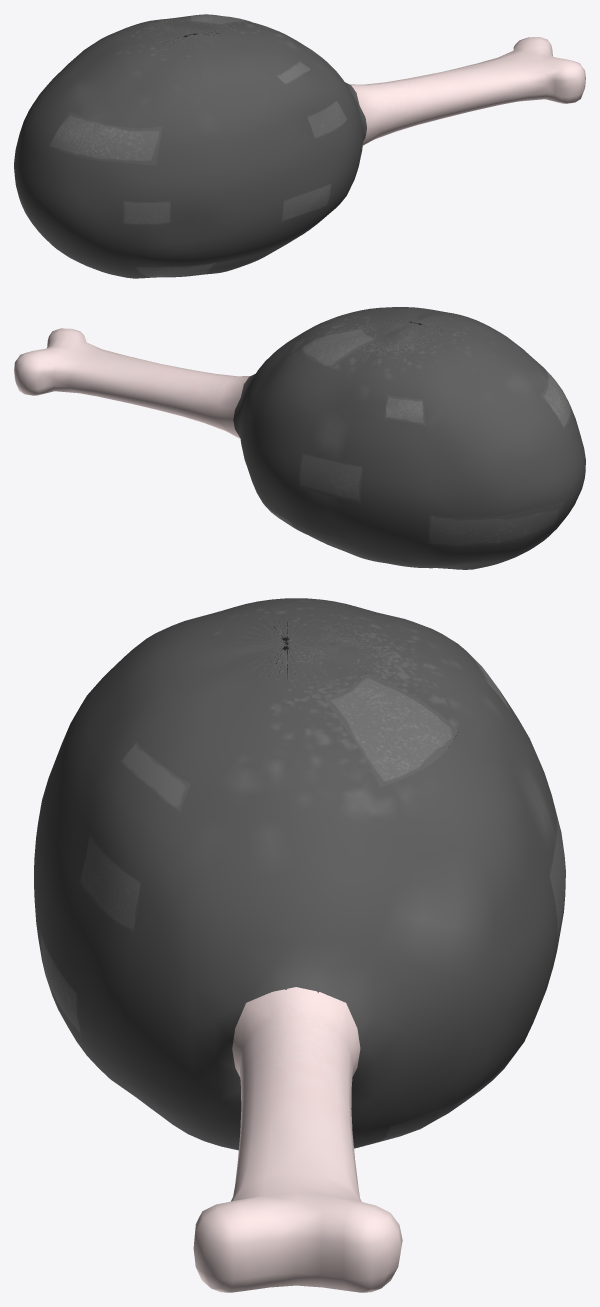
The model's file is Mech Meat Textured.fbx.
3 views of the same model, one above another, from view 1: azimuth 30°, elevation 25°; view 2: azimuth 150°, elevation 25°; view 3: azimuth 270°, elevation 25° (orthographic). The views are drawn at different scales.
Visible parts, largest first — view 1: Sphere001; view 2: Sphere001; view 3: Sphere001.
Part boxes in pixels (x1,y1,x2,y2): Sphere001: [14, 14, 585, 278]; Sphere001: [14, 307, 585, 569]; Sphere001: [34, 598, 565, 1292].
Size of the model in its own units: 6.06 by 2.46 by 2.59.
Materials: 1 (1 with a texture image).
